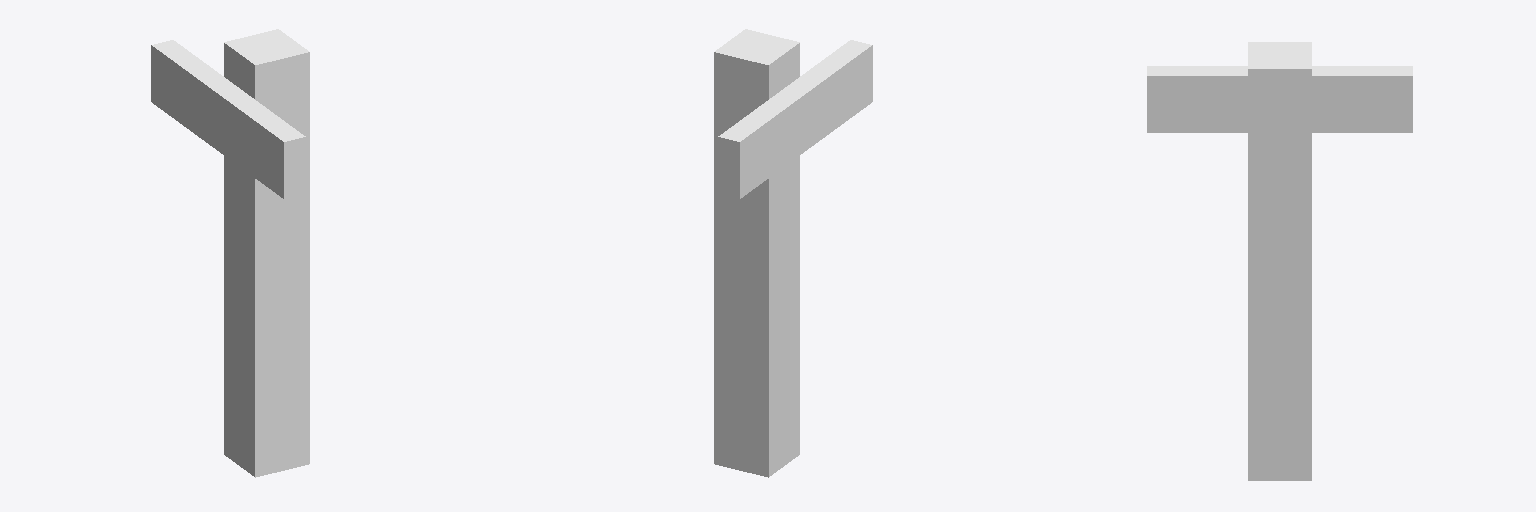
The model's file is train_post_nolights.obj.
3 views of the same model, side by side, from view 1: azimuth 30°, elevation 25°; view 2: azimuth 150°, elevation 25°; view 3: azimuth 270°, elevation 25° (orthographic).
Parts seen in each view (by area): view 1: object 1; view 2: object 1; view 3: object 1.
Boxes of the visible parts, x1,y1,x2,y2 form: object 1: [151, 29, 309, 477]; object 1: [714, 29, 872, 477]; object 1: [1147, 42, 1412, 480].
Bounding box in the file's own units: 0.7 × 3.6 × 2.1.